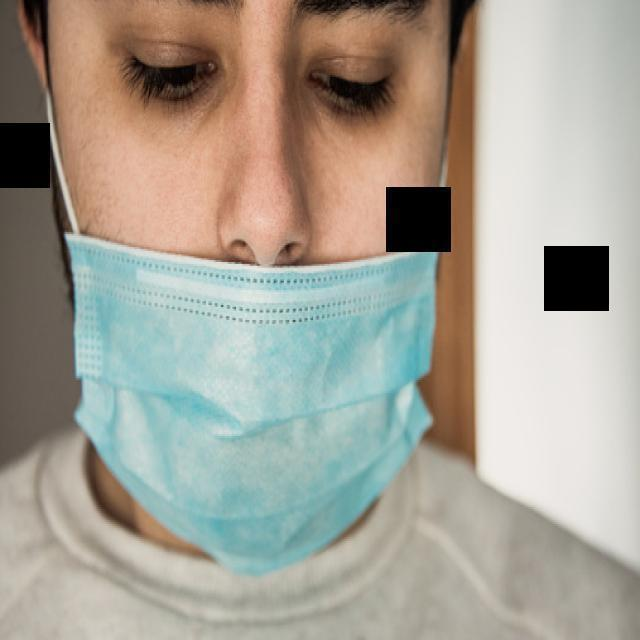hairnet: (38, 178, 446, 585)
